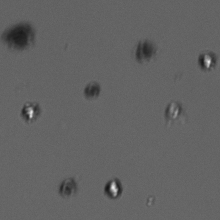Dead Cell: (6, 21, 40, 50), (135, 36, 158, 63), (58, 177, 77, 199), (84, 81, 103, 99)
Living Cell: (103, 176, 125, 200), (21, 101, 42, 123), (166, 98, 183, 123), (198, 50, 215, 72)
